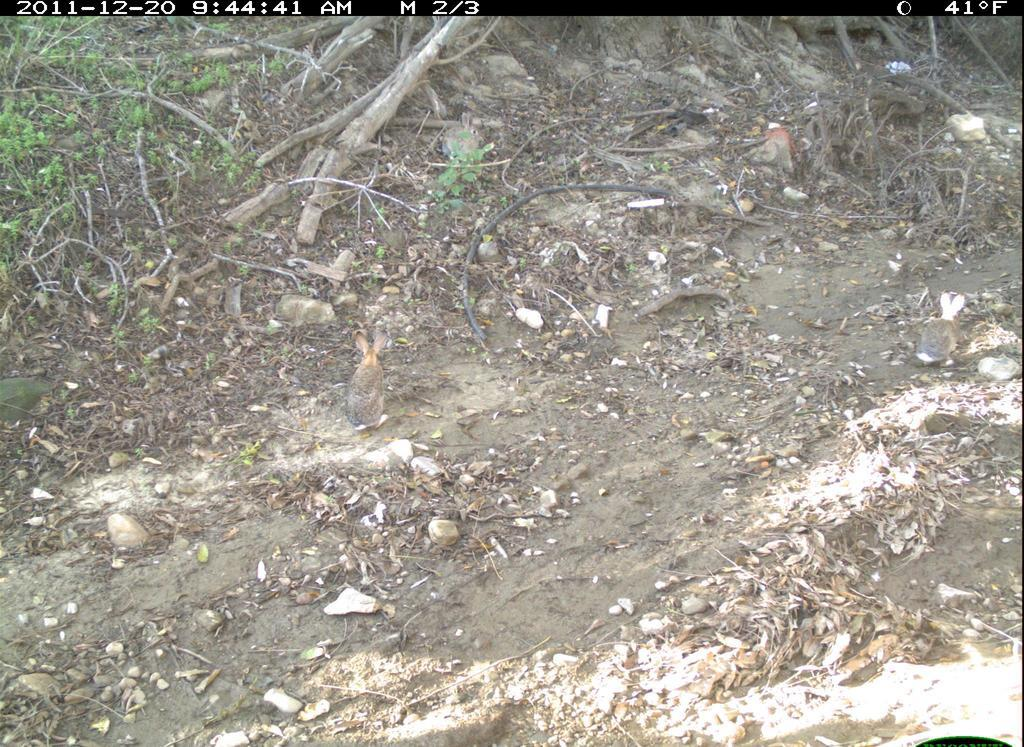rabbit: (340, 317, 404, 437), (907, 279, 970, 374)
